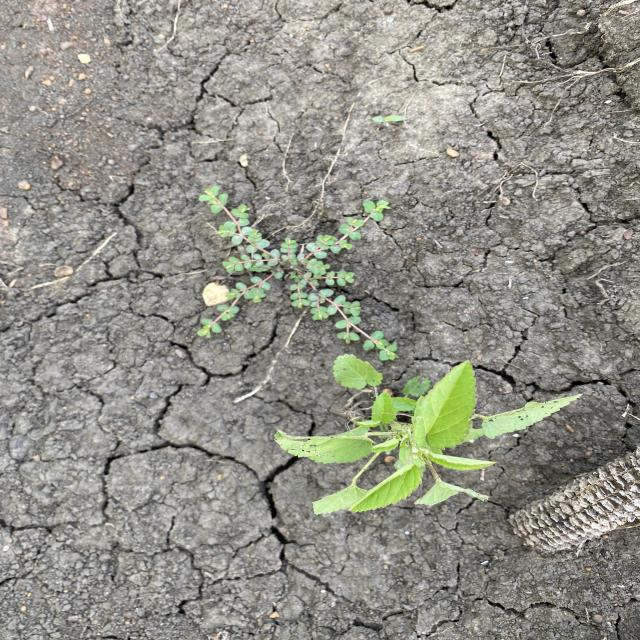PricklySida: (272, 353, 584, 516)
SpottedSpurge: (195, 183, 402, 364)
